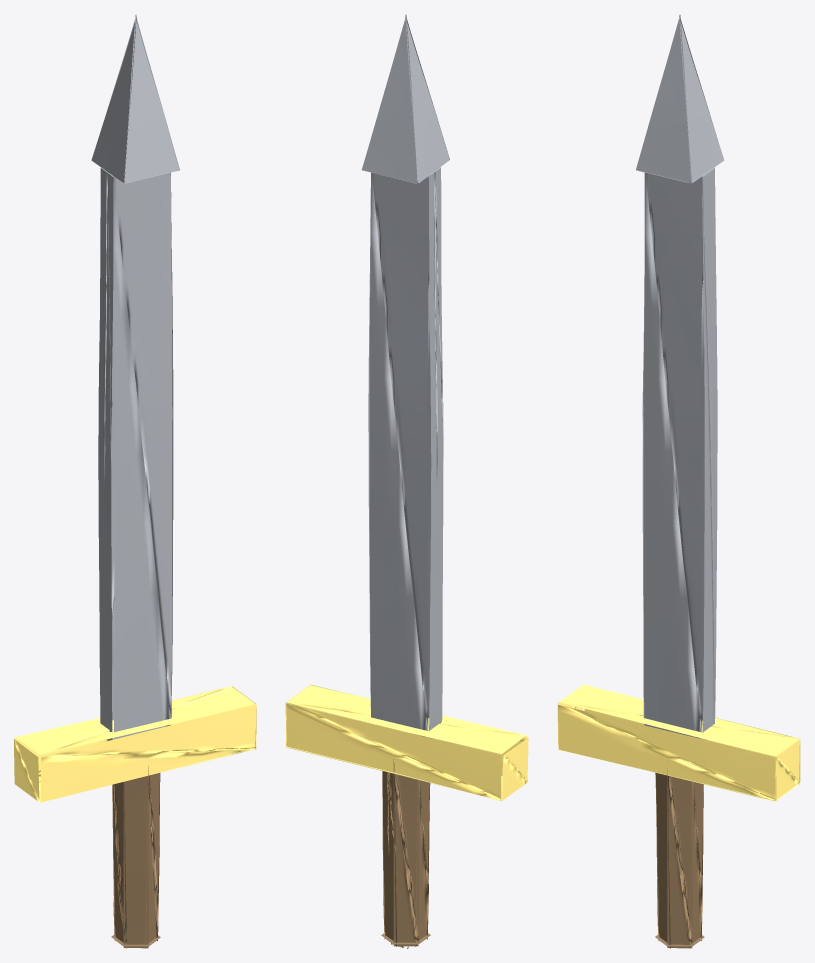
The model's file is greatsword.glb.
3 renders of one model, left to right at view 1: azimuth 30°, elevation 25°; view 2: azimuth 150°, elevation 25°; view 3: azimuth 330°, elevation 25°, orthographic.
Visible parts, largest first — view 1: GreatswordGrip; view 2: GreatswordGrip; view 3: GreatswordGrip.
Boxes of the visible parts, x1,y1,x2,y2 form: GreatswordGrip: (14, 15, 256, 948); GreatswordGrip: (285, 14, 528, 948); GreatswordGrip: (557, 15, 800, 948).
Bounding box in the file's own units: 0.6073 × 2.46 × 0.1565.
